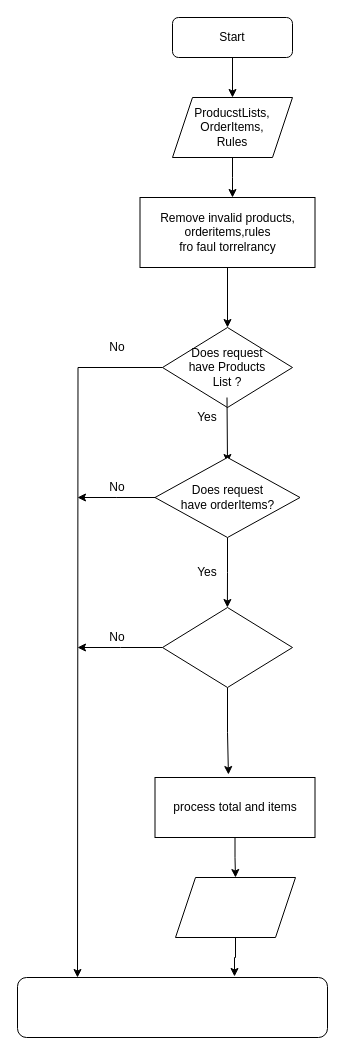
This 345x1055 diagram has some shape labels left out. The shapes that lost their labels are listed below. From the top down, each one's centre as x and y in pixels, then its label:
At (227,647): "Deso request have rules ?".
At (235,907): "return total price and items".
At (172,1007): "End".
